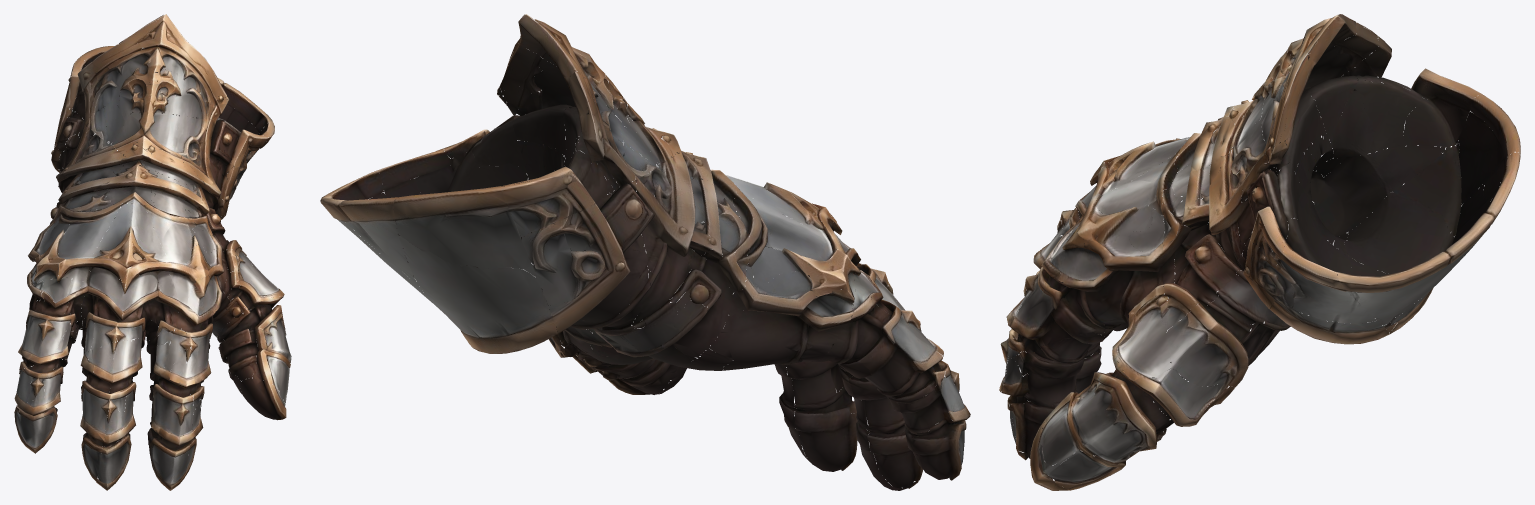
File: gauntlet_e.glb
3 renders of one model, left to right at view 1: azimuth 30°, elevation 25°; view 2: azimuth 150°, elevation 25°; view 3: azimuth 270°, elevation 25°, orthographic. The views are drawn at different scales.
Visible parts, largest first — view 1: tripo_node_379f2f2f-9bd2-4dc7-bc48-e635dd12a56c; view 2: tripo_node_379f2f2f-9bd2-4dc7-bc48-e635dd12a56c; view 3: tripo_node_379f2f2f-9bd2-4dc7-bc48-e635dd12a56c.
Boxes of the visible parts, x1,y1,x2,y2 form: tripo_node_379f2f2f-9bd2-4dc7-bc48-e635dd12a56c: (14,14,291,490); tripo_node_379f2f2f-9bd2-4dc7-bc48-e635dd12a56c: (320,14,970,490); tripo_node_379f2f2f-9bd2-4dc7-bc48-e635dd12a56c: (999,14,1520,490).
Size of the model in its own units: 0.9406 by 0.9793 by 0.8945.
1 material, 1 textured.
